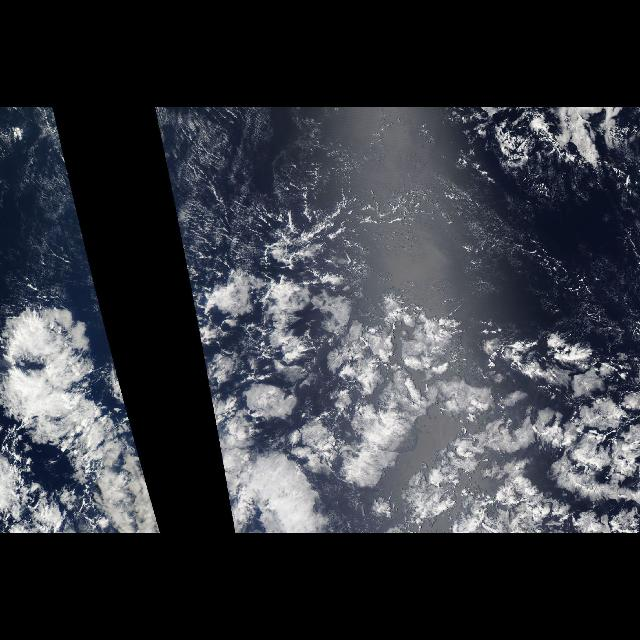Flower: (253, 276, 634, 528)
Sugar: (155, 115, 630, 277), (17, 115, 95, 277)
